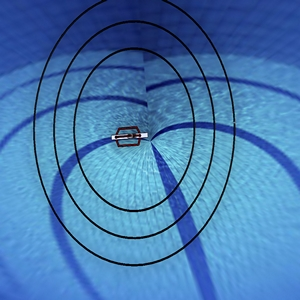circle: (23, 1, 239, 282)
submarine: (107, 119, 158, 154)
